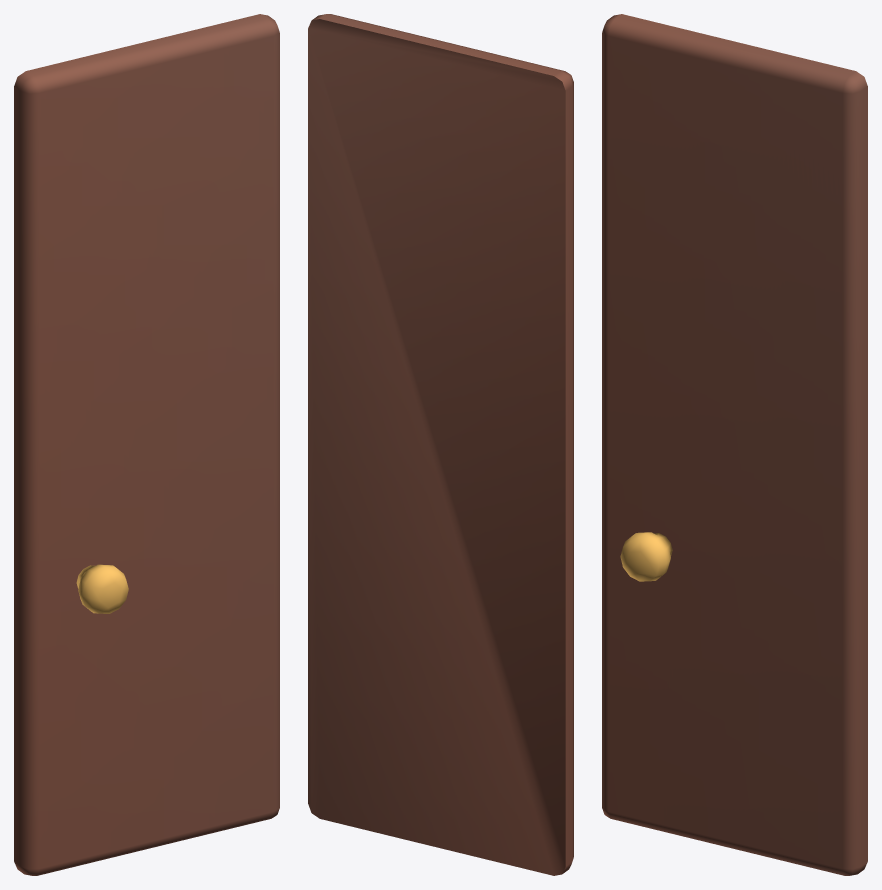
The model's file is Closet_08_Door_02.fbx.
The picture shows the model from 3 angles, left to right: view 1: azimuth 30°, elevation 25°; view 2: azimuth 150°, elevation 25°; view 3: azimuth 330°, elevation 25°; orthographic projection.
Parts seen in each view (by area): view 1: Closet_08_Door_02; view 2: Closet_08_Door_02; view 3: Closet_08_Door_02.
Part boxes in pixels (x1=…): Closet_08_Door_02: x1=14, y1=14, x2=279, y2=875; Closet_08_Door_02: x1=308, y1=14, x2=573, y2=875; Closet_08_Door_02: x1=602, y1=14, x2=867, y2=875.
Bounding box in the file's own units: 33 × 7.98 × 97.9.
